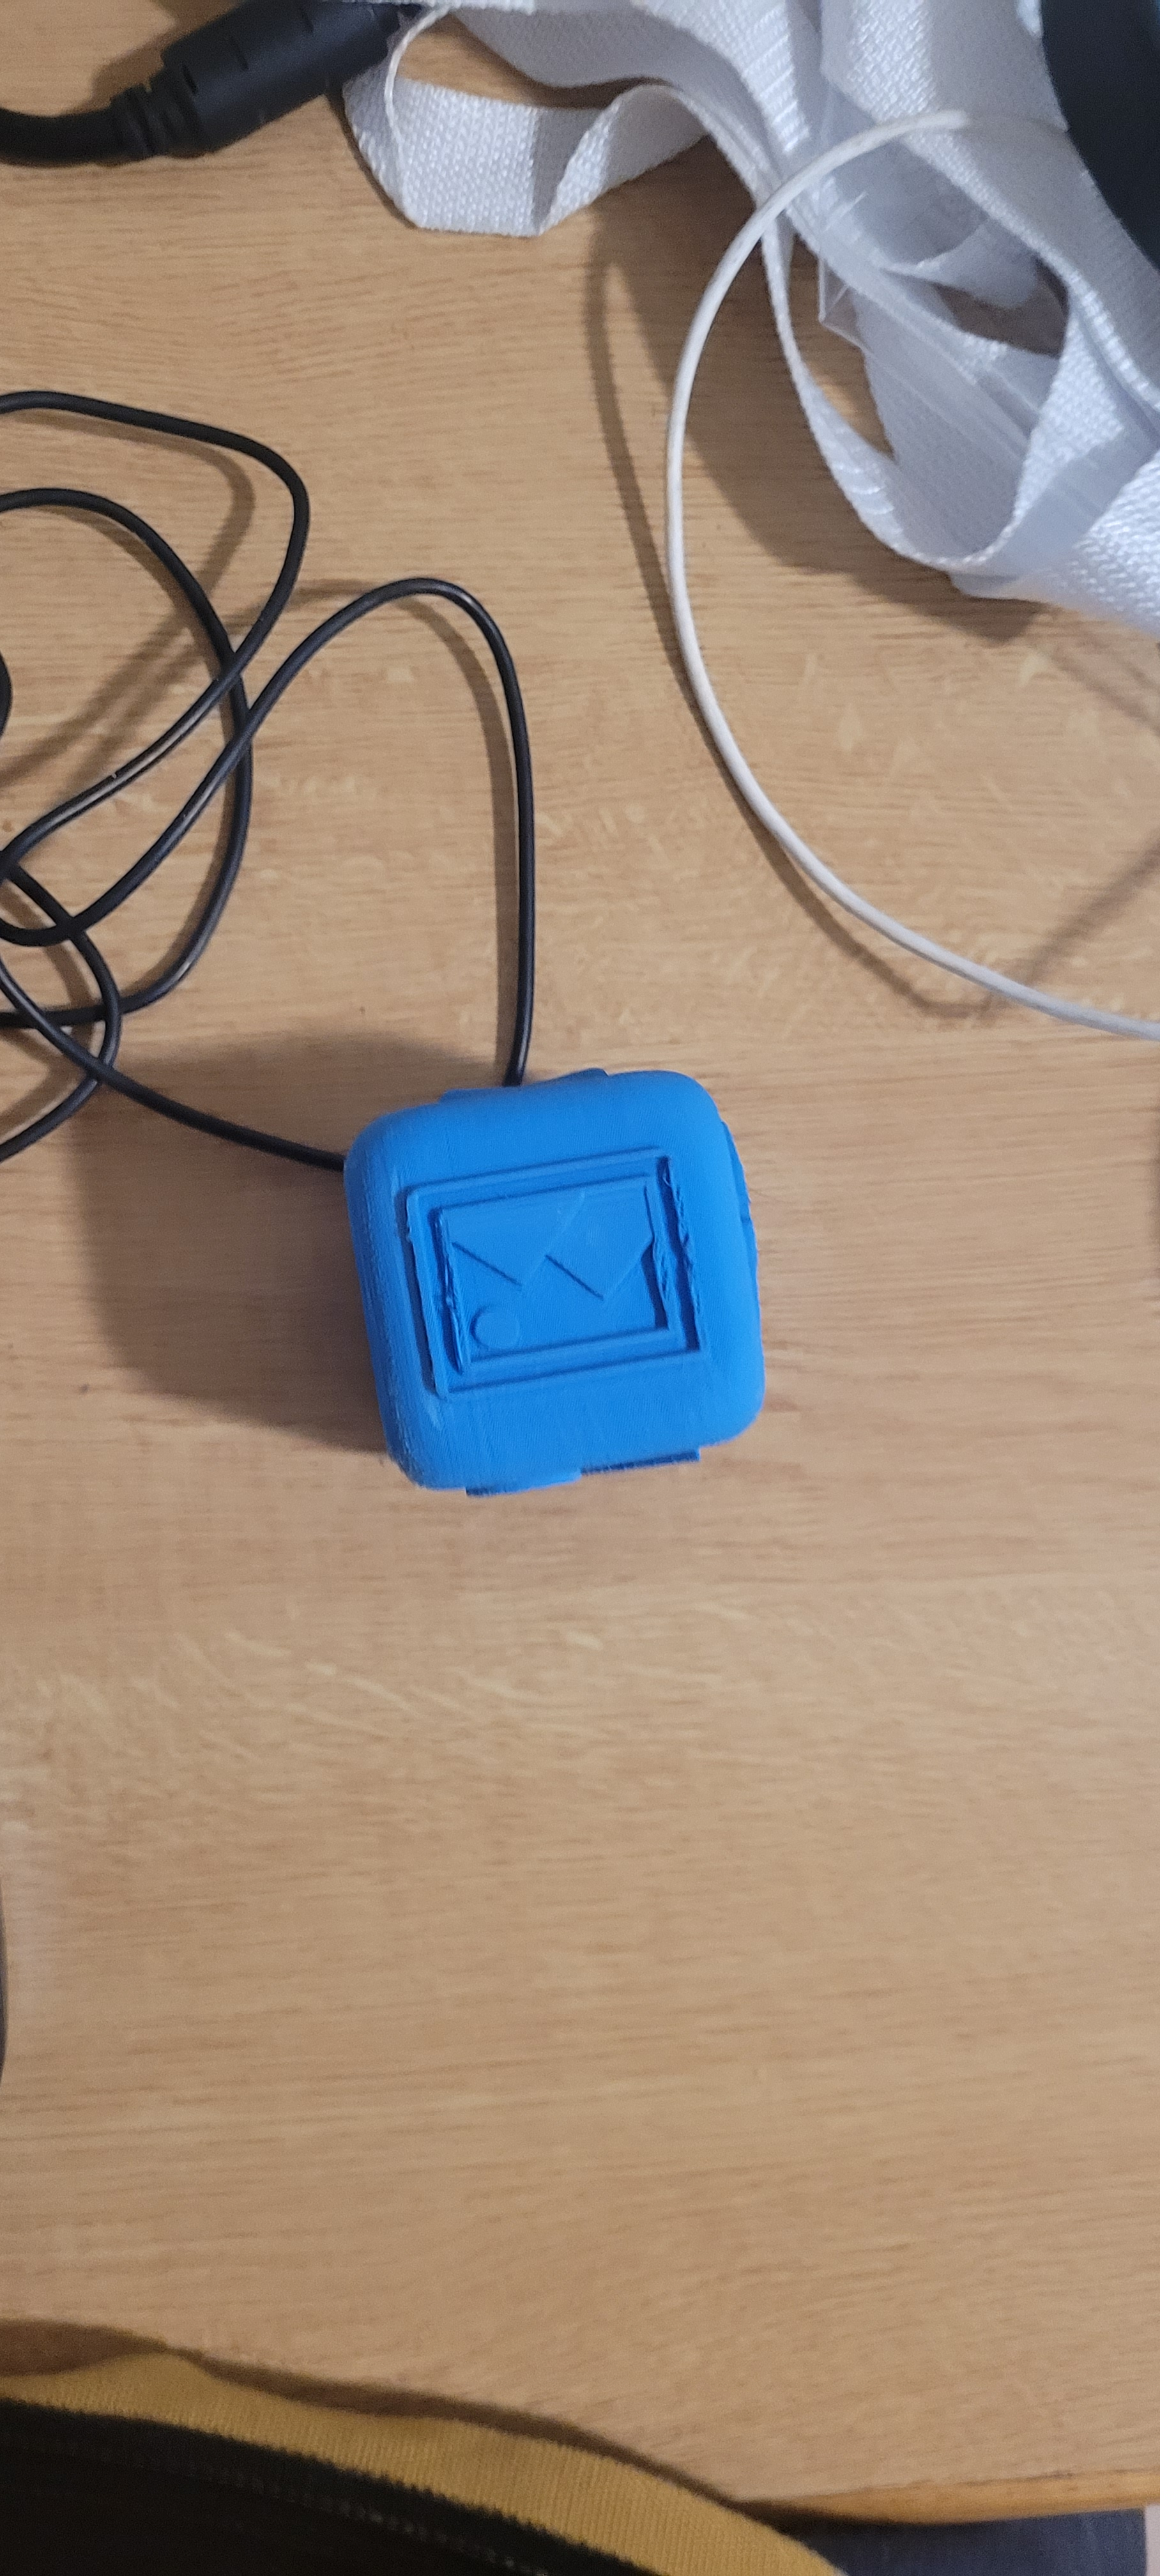Story: (376, 1161, 711, 1411)
